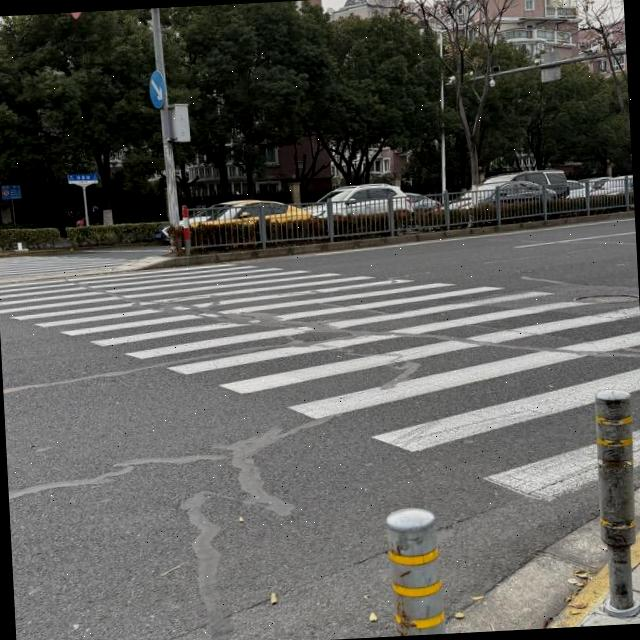curb: (97, 209, 634, 273), (127, 211, 634, 271), (547, 564, 608, 628), (0, 243, 155, 259), (632, 534, 640, 567)
